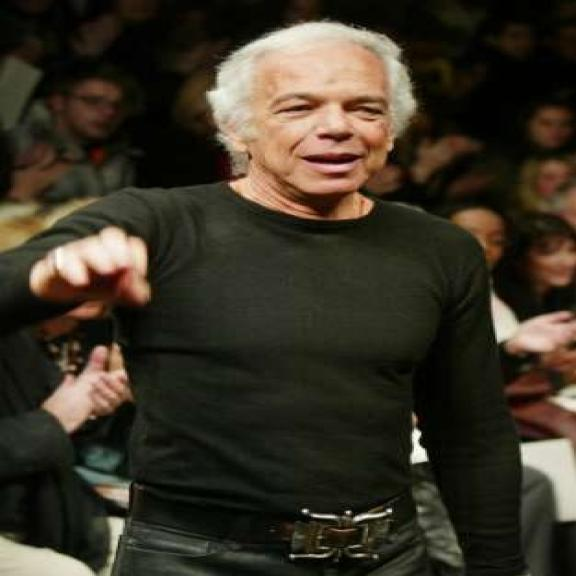face: (218, 41, 406, 199), (44, 76, 126, 140), (526, 225, 576, 294), (518, 103, 574, 154)
